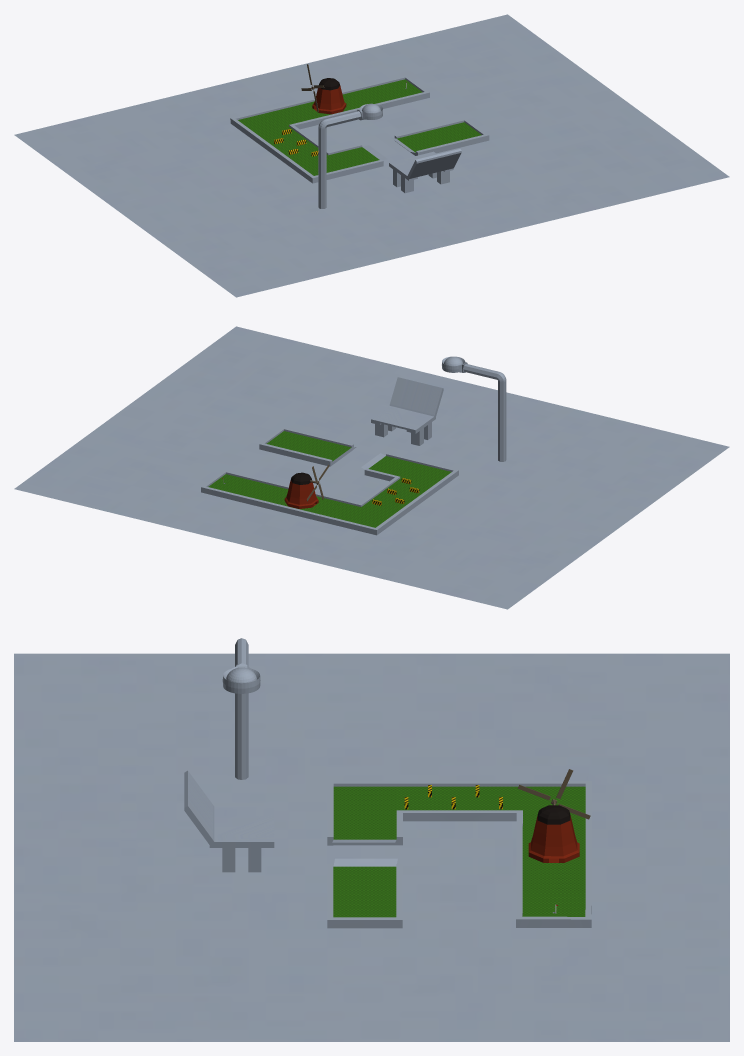
Rendered from minigolf_hole2.fbx.
3 renders of one model, top to bottom at view 1: azimuth 30°, elevation 25°; view 2: azimuth 150°, elevation 25°; view 3: azimuth 270°, elevation 25°, orthographic. The views are drawn at different scales.
Visible parts, largest first — view 1: Background, Ground, Top, Hole, Windmill, Sides; view 2: Background, Ground, Hole, Top, Windmill, Sides; view 3: Background, Ground, Top, Hole, Windmill, Sides, Ramps.
Part boxes in pixels (box(x1,y1,x2,y2)): Background: box(14, 14, 729, 297); Ground: box(238, 79, 481, 175); Top: box(231, 75, 488, 178); Hole: box(230, 88, 489, 183); Windmill: box(312, 78, 346, 114); Sides: box(236, 77, 483, 155); Background: box(14, 326, 729, 609); Ground: box(208, 431, 451, 527); Hole: box(201, 444, 458, 535); Top: box(201, 427, 458, 529); Windmill: box(284, 472, 318, 508); Sides: box(206, 429, 453, 506); Background: box(14, 638, 729, 1041); Ground: box(333, 786, 585, 917); Top: box(327, 781, 591, 919); Hole: box(327, 813, 591, 928); Windmill: box(528, 805, 579, 862); Sides: box(333, 783, 585, 915); Ramps: box(332, 839, 397, 866).
Size of the model in its own units: 29.17 by 5.12 by 22.74.
